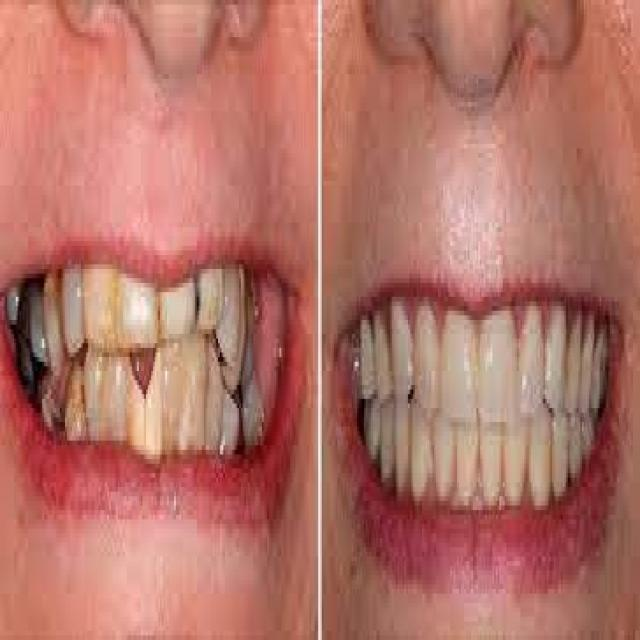tooth: (478, 292, 519, 431), (438, 292, 476, 441), (517, 283, 545, 417), (410, 292, 443, 404), (86, 260, 120, 352), (545, 283, 568, 417), (121, 274, 160, 348), (385, 287, 413, 385), (478, 413, 506, 510), (40, 274, 65, 376), (454, 403, 480, 501), (545, 404, 568, 510), (505, 404, 531, 496), (179, 352, 206, 440), (164, 269, 195, 339), (410, 385, 430, 492), (429, 408, 454, 492), (63, 264, 86, 348), (84, 357, 108, 436), (533, 413, 552, 510), (125, 362, 144, 459), (568, 301, 584, 413), (394, 385, 410, 496), (371, 306, 390, 394), (566, 404, 584, 473), (202, 264, 222, 320)
